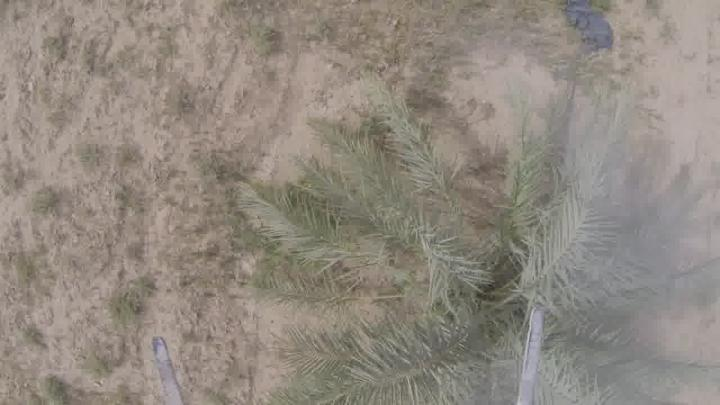Date-Palm-Crown: (362, 161, 638, 405)
